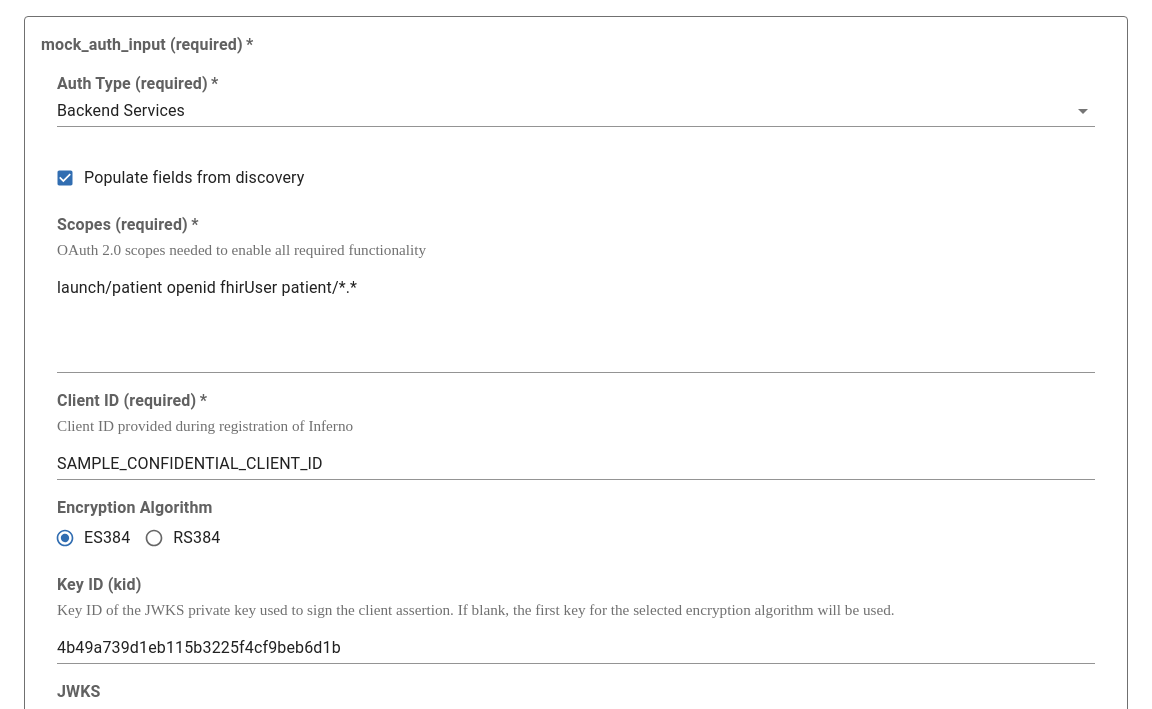
Scenario: InputAuth Component › shows all unhidden auth inputs
Check: the text "Populate fields from discovery" is shown, box [84,166,305,190]
Check: the field labelled "Token URL" is not shown
Check that Token URL appears if Populate from discovery is unchecked (hidden should appear)
Click the checkbox at (180, 178), box [55,168,305,188]
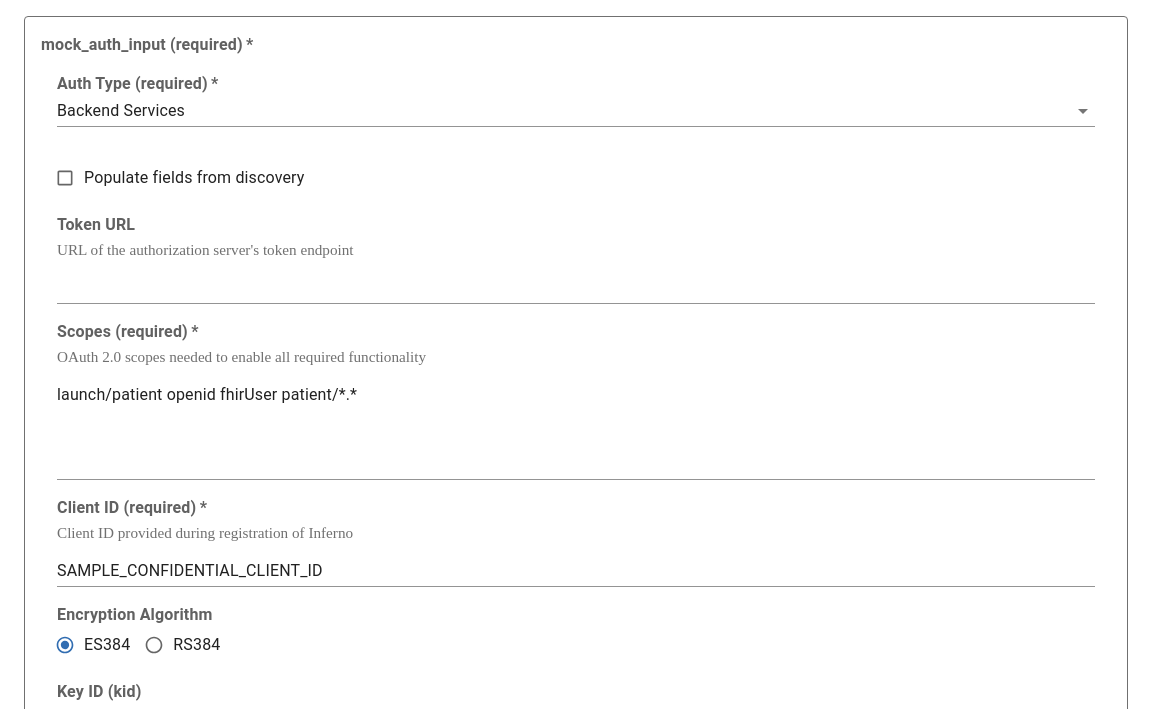
Check: the field labelled "Token URL" is shown, box [57,272,1095,304]
